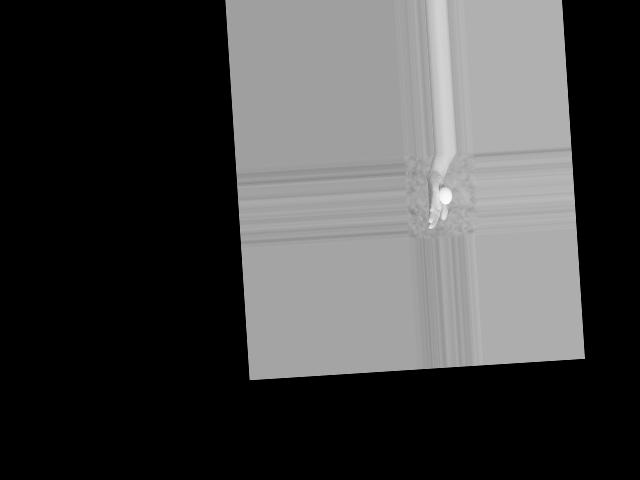egg: (438, 186, 452, 204)
